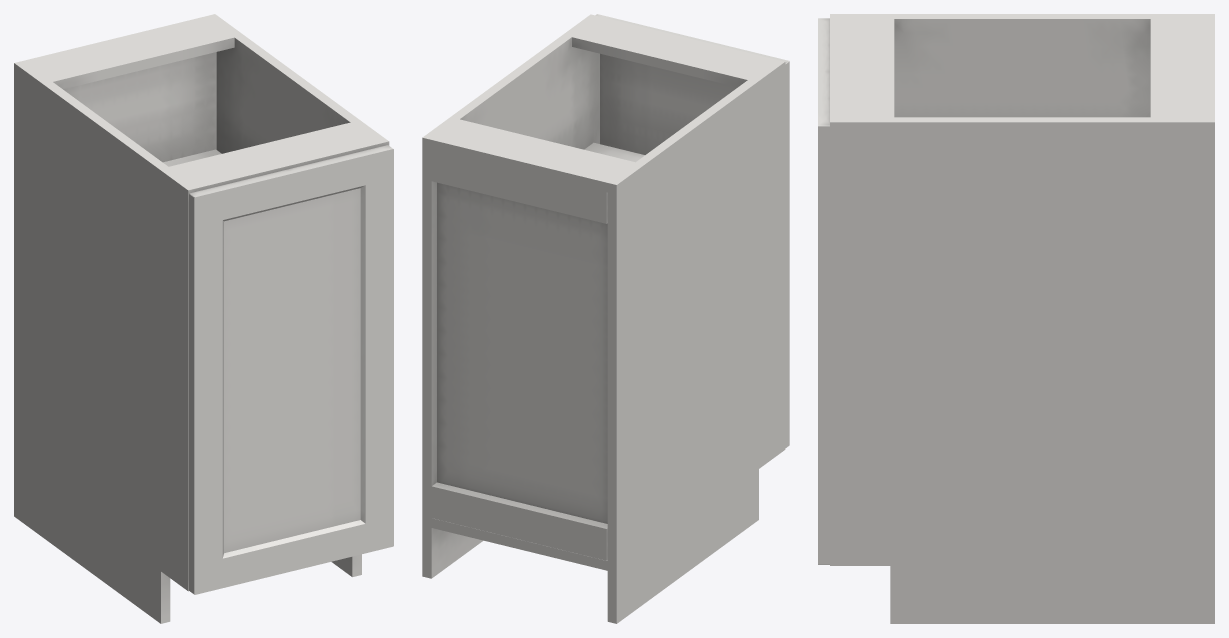
Rendered from 1-door-base-doors-on.glb.
The picture shows the model from 3 angles, left to right: view 1: azimuth 30°, elevation 25°; view 2: azimuth 150°, elevation 25°; view 3: azimuth 270°, elevation 25°; orthographic projection. The views are drawn at different scales.
Parts seen in each view (by area): view 1: part_0, part_9; view 2: part_0, part_9; view 3: part_0, part_9.
Boxes of the visible parts, bbox=[...] form: part_0: bbox=[14, 14, 389, 623]; part_9: bbox=[189, 145, 393, 594]; part_0: bbox=[422, 14, 785, 623]; part_9: bbox=[595, 14, 789, 448]; part_0: bbox=[830, 14, 1214, 623]; part_9: bbox=[818, 18, 829, 564].
Size of the model in its own units: 0.4064 by 0.8763 by 0.6286.
2 materials, 2 textured.
